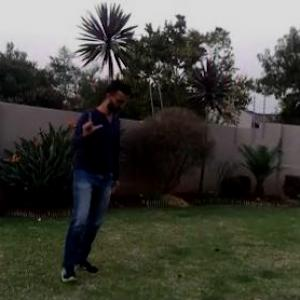land_hand: (73, 105, 106, 139)
